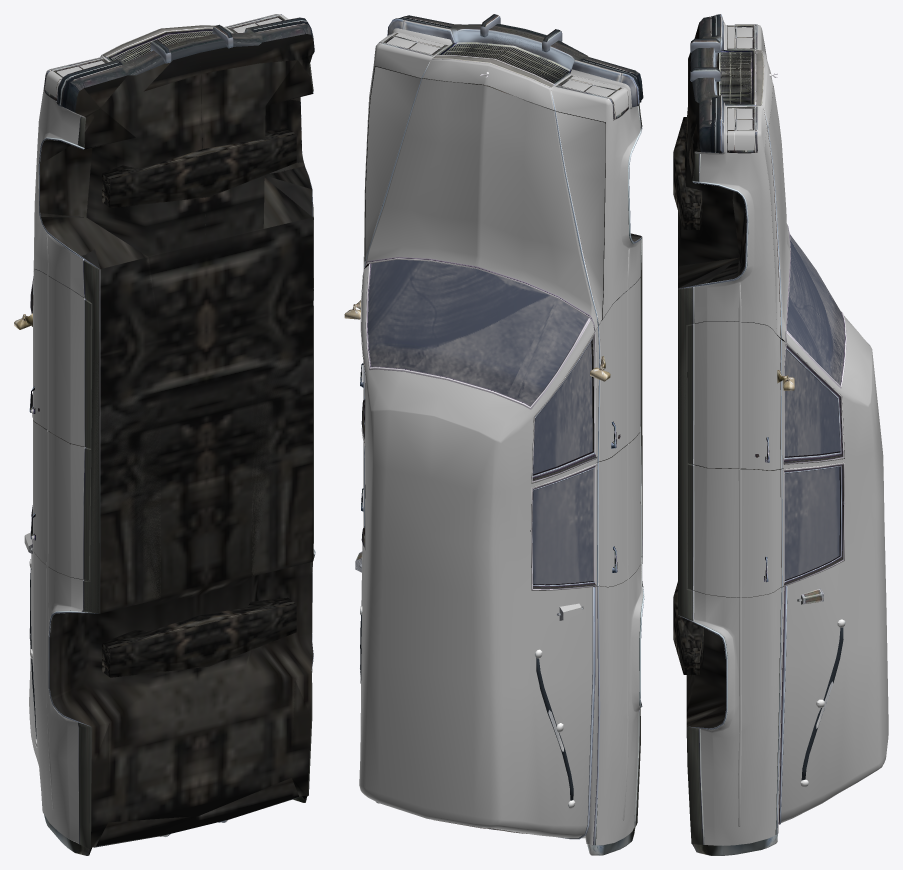
File: GrandstarHearse.FBX
The picture shows the model from 3 angles, left to right: view 1: azimuth 30°, elevation 25°; view 2: azimuth 150°, elevation 25°; view 3: azimuth 270°, elevation 25°; orthographic projection. The views are drawn at different scales.
Parts seen in each view (by area): view 1: EngBay, Misc, GrandstarH_P, Doorpf_P, Doorpr_P, pfmisc, Prmisc, Roof_EC; view 2: Roof_EC, Hood_P, GrandstarH_P, Glassfront, EngBay, Doorpf_P, Glasspr, Doorpr_P, glasspf, Misc, Hoodmisc, pfmisc (+1 smaller); view 3: Roof_EC, GrandstarH_P, EngBay, Doordf_P, Doordr_P, Misc, Glassdr, Glassfront, glassdf, Hood_P, dfmisc, Drmisc (+1 smaller).
Part boxes in pixels (box(x1,y1,x2,y2)): EngBay: box(28, 14, 315, 855); Misc: box(32, 28, 313, 849); GrandstarH_P: box(33, 14, 314, 843); Doorpf_P: box(33, 269, 84, 446); Doorpr_P: box(33, 420, 84, 579); pfmisc: box(14, 282, 92, 448); Prmisc: box(30, 420, 91, 580); Roof_EC: box(29, 539, 38, 765); Roof_EC: box(359, 266, 596, 838); Hood_P: box(365, 66, 605, 330); GrandstarH_P: box(364, 28, 643, 845); Glassfront: box(367, 259, 588, 405); EngBay: box(355, 14, 644, 855); Doorpf_P: box(595, 278, 640, 462); Glasspr: box(532, 469, 593, 584); Doorpr_P: box(595, 432, 640, 586); glasspf: box(533, 342, 592, 474); Misc: box(361, 31, 643, 706); Hoodmisc: box(363, 66, 605, 331); pfmisc: box(532, 278, 640, 478); Roof_EC: box(781, 316, 888, 822); GrandstarH_P: box(691, 22, 784, 845); EngBay: box(678, 14, 846, 855); Doordf_P: box(694, 321, 785, 470); Doordr_P: box(694, 465, 783, 597); Misc: box(673, 18, 843, 843); Glassdr: box(784, 467, 839, 579); Glassfront: box(787, 235, 844, 384); glassdf: box(784, 349, 840, 456); Hood_P: box(764, 48, 790, 341); dfmisc: box(687, 323, 842, 468); Drmisc: box(687, 463, 843, 590).
Bounding box in the file's own units: 205 × 590 × 153.
